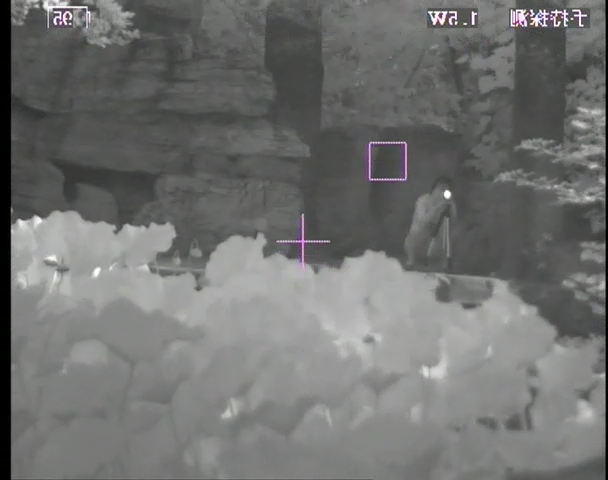my: (443, 189, 455, 201)
